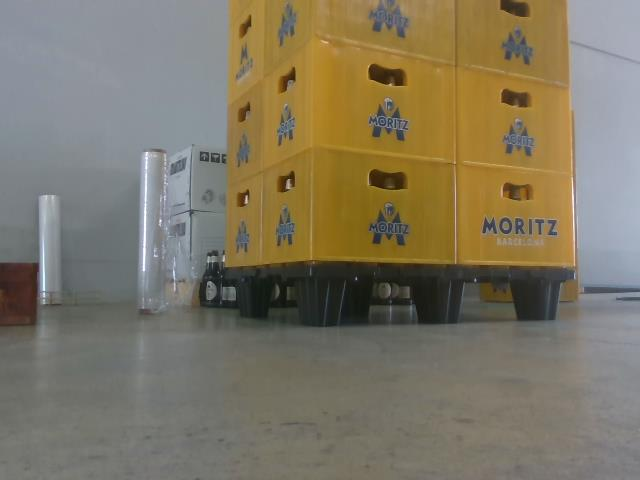block: (292, 280, 369, 322), (506, 279, 561, 320), (412, 281, 465, 321), (235, 279, 271, 318)
hole pallet: (365, 279, 439, 320), (458, 280, 532, 318)
